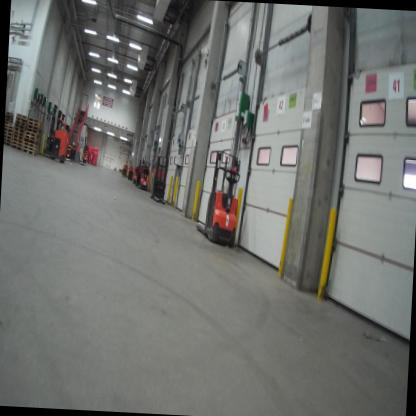forklift: (41, 98, 70, 164), (54, 107, 73, 158), (60, 112, 77, 166)
pallet: (27, 116, 43, 127), (24, 130, 40, 141), (22, 139, 39, 149), (23, 136, 38, 147), (25, 123, 41, 133), (27, 127, 42, 137), (26, 120, 44, 128), (23, 134, 40, 142), (22, 144, 37, 153), (13, 125, 27, 134), (21, 148, 38, 154), (15, 113, 29, 120), (12, 137, 23, 145), (13, 130, 24, 138), (10, 144, 22, 151), (14, 123, 26, 130), (15, 119, 27, 126), (13, 133, 24, 140), (11, 141, 23, 147), (16, 117, 27, 123), (5, 109, 12, 115), (6, 126, 14, 131), (6, 138, 12, 144), (5, 114, 12, 119), (4, 142, 11, 147), (5, 135, 13, 139), (4, 118, 10, 123), (7, 131, 12, 137), (8, 123, 14, 128), (4, 127, 7, 133), (5, 123, 9, 127), (3, 139, 6, 142), (4, 135, 6, 139), (4, 133, 6, 135)
pallet_truck: (190, 136, 247, 254), (147, 147, 170, 209), (135, 158, 151, 191), (126, 158, 137, 184), (131, 160, 143, 183), (120, 156, 129, 180)
